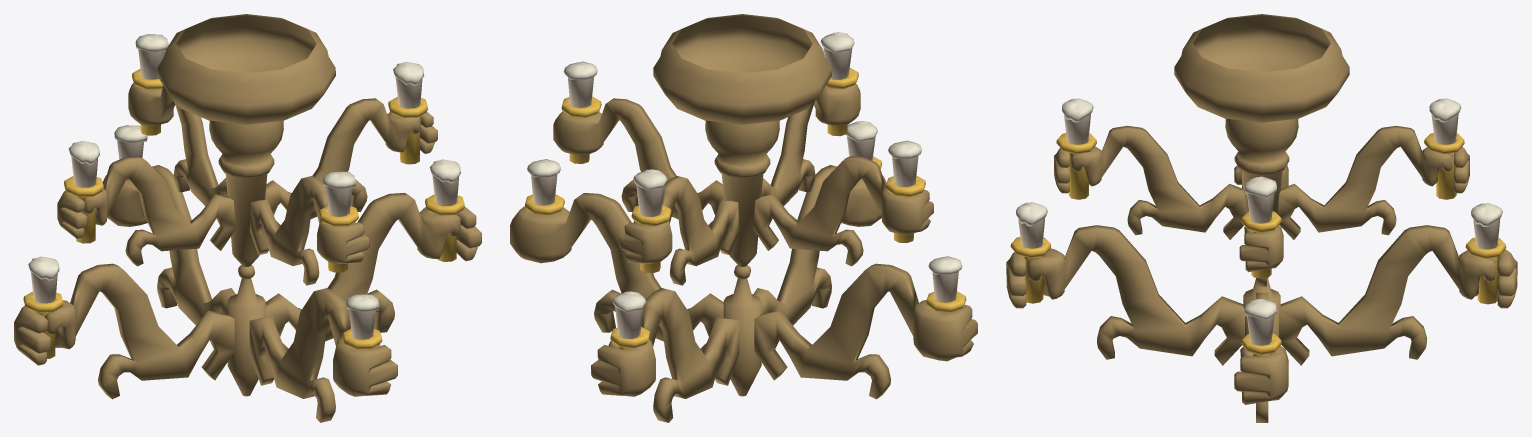
File: props_LustreChandelier.fbx
The picture shows the model from 3 angles, left to right: view 1: azimuth 30°, elevation 25°; view 2: azimuth 150°, elevation 25°; view 3: azimuth 270°, elevation 25°; orthographic projection.
Parts seen in each view (by area): view 1: base_hand.004; view 2: base_hand.004; view 3: base_hand.004.
Boxes of the visible parts, <box> form: base_hand.004: <box>14,14,481,422</box>; base_hand.004: <box>510,14,977,422</box>; base_hand.004: <box>1006,14,1517,422</box>.
Size of the model in its own units: 1.55 by 1.55 by 1.16.
